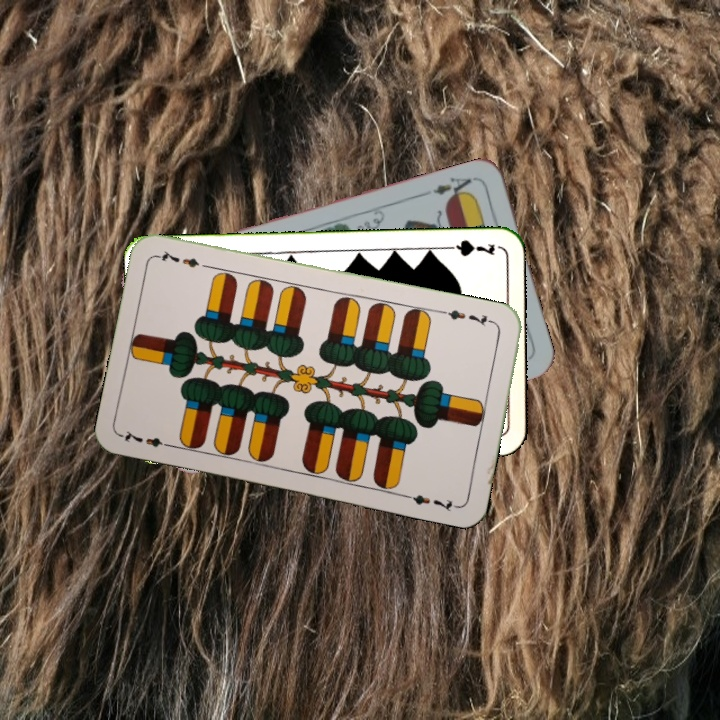E7: (118, 426, 177, 451), (439, 305, 498, 329)
EA: (429, 173, 479, 202)
G7: (439, 236, 497, 259)
